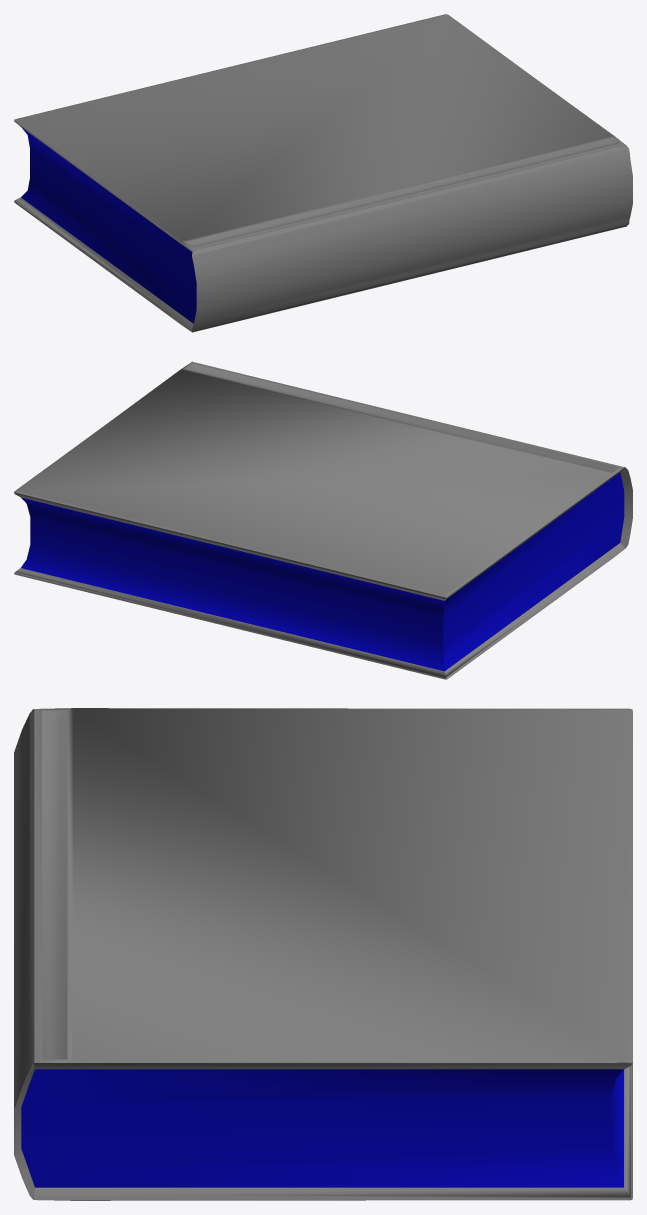
The model's file is BD_BOOK.fbx.
3 renders of one model, top to bottom at view 1: azimuth 30°, elevation 25°; view 2: azimuth 150°, elevation 25°; view 3: azimuth 270°, elevation 25°, orthographic. The views are drawn at different scales.
Parts seen in each view (by area): view 1: Box025; view 2: Box025; view 3: Box025.
Boxes of the visible parts, x1=… form: Box025: x1=14, y1=14, x2=632, y2=332; Box025: x1=14, y1=361, x2=632, y2=679; Box025: x1=14, y1=708, x2=632, y2=1200.
Bounding box in the file's own units: 51.38 × 37.64 × 9.39.
